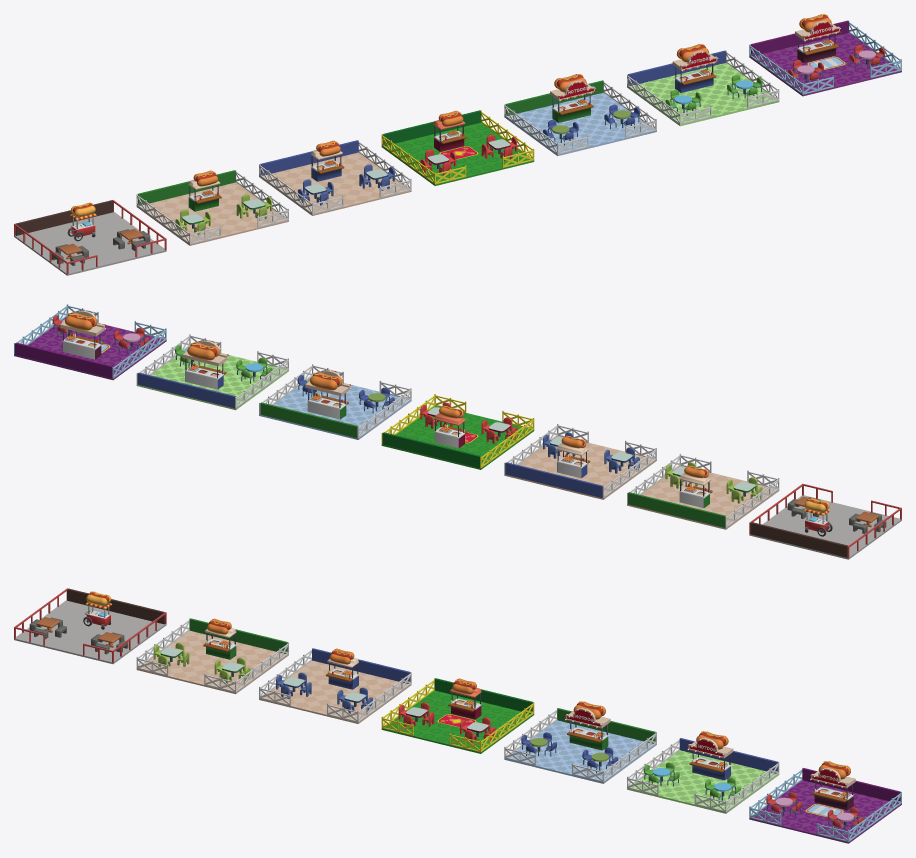
Rendered from HotdogCafe.fbx.
The picture shows the model from 3 angles, top to bottom: view 1: azimuth 30°, elevation 25°; view 2: azimuth 150°, elevation 25°; view 3: azimuth 330°, elevation 25°; orthographic projection.
Visible parts, largest first — view 1: Cube.300, Cube.301, Cube.294, Cube.304, Cube.311, Cube.194, Cube.226, Cube.465, Cube.289, Cube.291, Cube.531, Cube.529 (+2 smaller); view 2: Cube.301, Cube.294, Cube.194, Cube.300, Cube.304, Cube.311, Cube.226, Cube.465, Cube.289, Cube.291, Cube.531, Cube.529 (+2 smaller); view 3: Cube.300, Cube.294, Cube.301, Cube.304, Cube.311, Cube.194, Cube.226, Cube.465, Cube.289, Cube.291, Cube.531, Cube.529 (+2 smaller).
Part boxes in pixels (x1,y1,x2,y2): Cube.300: (14, 200, 166, 275); Cube.301: (136, 170, 288, 245); Cube.294: (259, 140, 411, 215); Cube.304: (627, 50, 779, 126); Cube.311: (504, 80, 656, 156); Cube.194: (381, 110, 534, 185); Cube.226: (749, 20, 901, 96); Cube.465: (795, 14, 845, 69); Cube.289: (550, 74, 595, 122); Cube.291: (672, 44, 718, 92); Cube.531: (433, 110, 478, 159); Cube.529: (188, 170, 221, 211); Cube.301: (627, 453, 779, 529); Cube.294: (504, 424, 656, 499); Cube.194: (381, 394, 534, 469); Cube.300: (749, 483, 901, 559); Cube.304: (136, 334, 288, 410); Cube.311: (259, 364, 411, 439); Cube.226: (14, 304, 166, 380); Cube.465: (60, 310, 110, 359); Cube.289: (305, 369, 350, 419); Cube.291: (182, 339, 228, 389); Cube.531: (434, 405, 478, 448); Cube.529: (679, 465, 712, 507); Cube.300: (14, 588, 166, 664); Cube.294: (259, 648, 411, 723); Cube.301: (136, 618, 288, 694); Cube.304: (627, 737, 779, 813); Cube.311: (504, 708, 656, 783); Cube.194: (381, 678, 534, 753); Cube.226: (749, 767, 901, 843); Cube.465: (805, 761, 855, 817); Cube.289: (565, 701, 610, 750); Cube.291: (687, 731, 733, 780); Cube.531: (437, 678, 481, 727); Cube.529: (203, 618, 236, 659).
Bounding box in the file's own units: 109 × 5.09 × 12.05.
7 materials, 7 textured.
